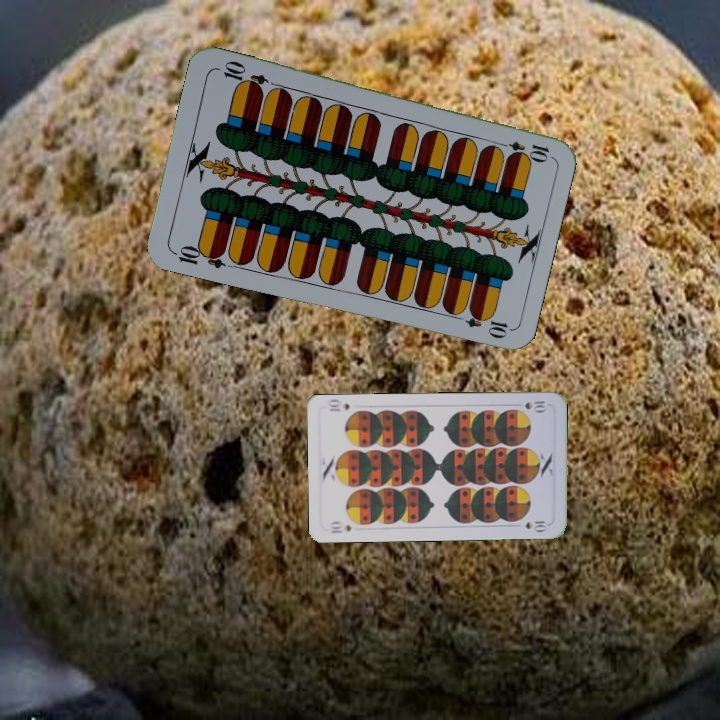E10: (168, 241, 228, 271), (492, 137, 552, 162)
S10: (520, 397, 549, 414), (326, 518, 354, 535)
